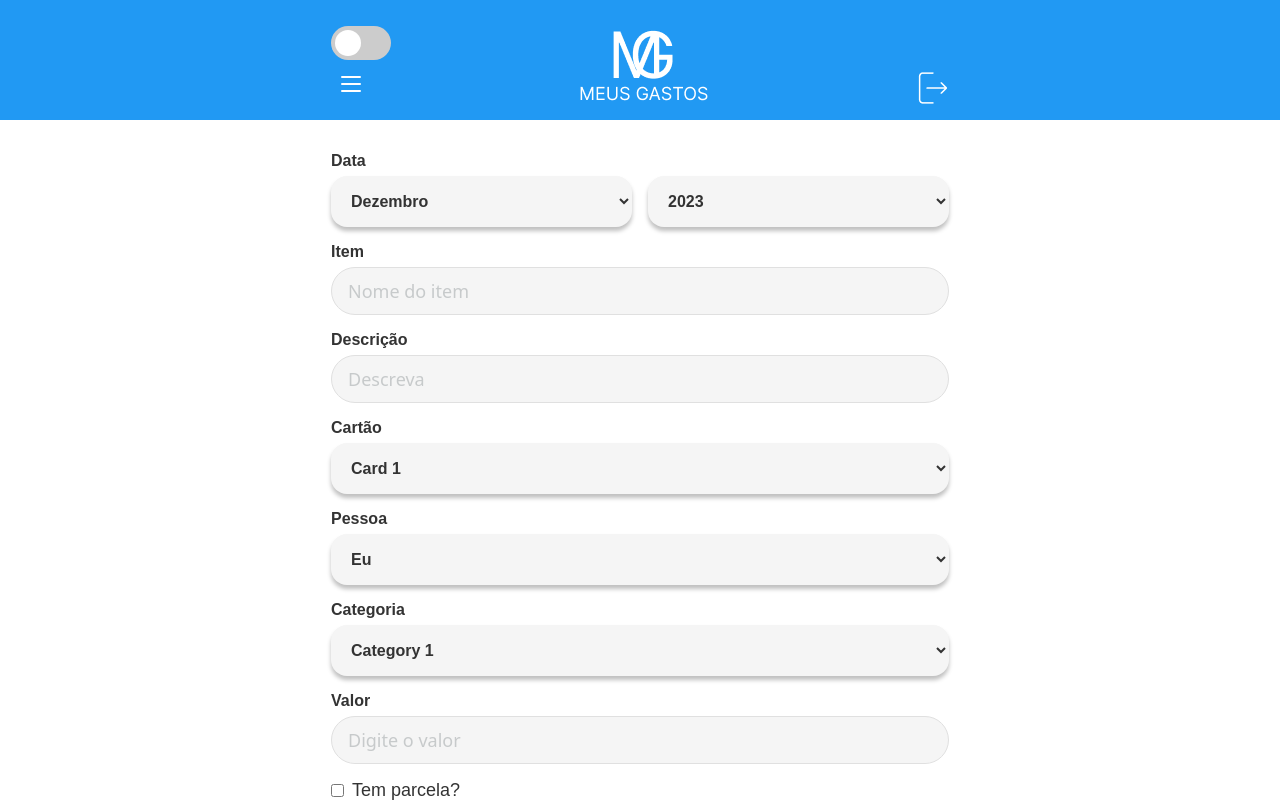
Scenario: New bill component with data › should show error paragraphs in inputs when not filled in
Click the checkbox with test id "checkbox-installment": (338, 790) [331,784,344,797]
(page scrolled)
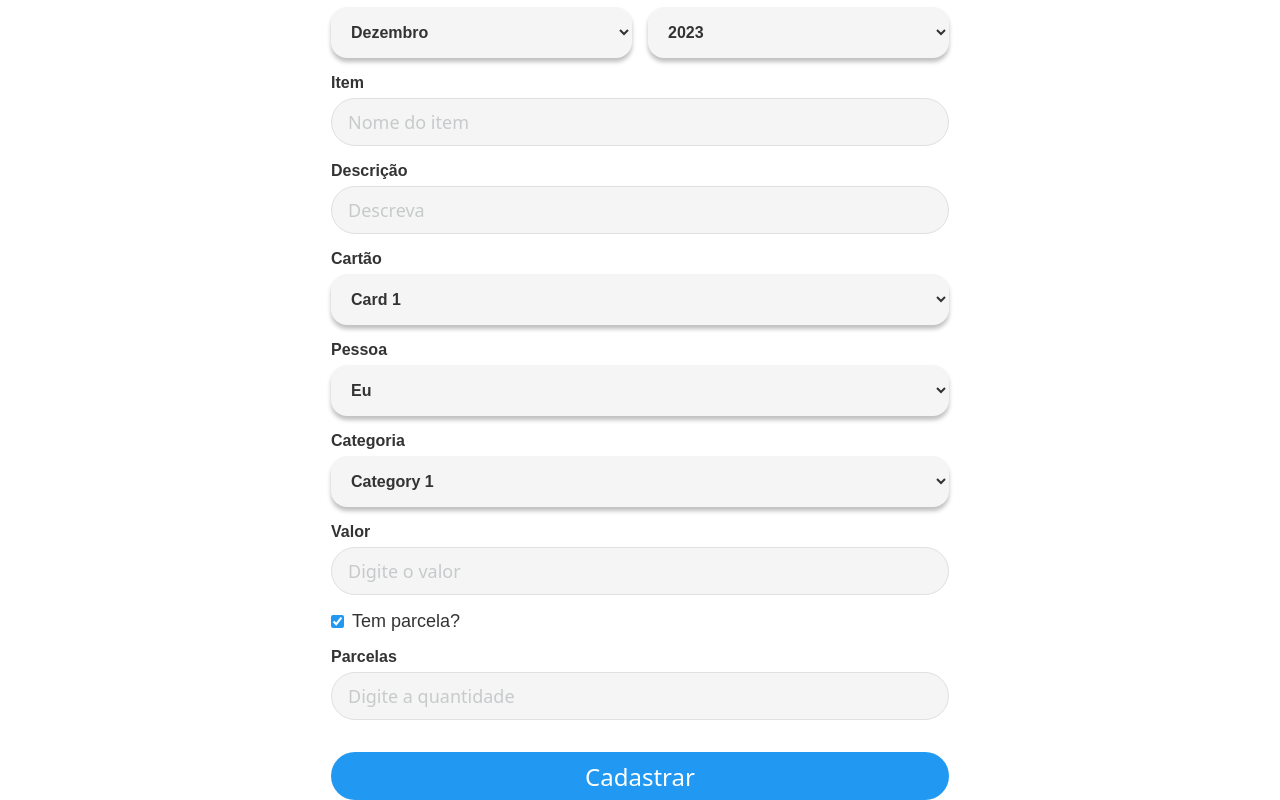
Click the button: (640, 776) [331,752,949,799]
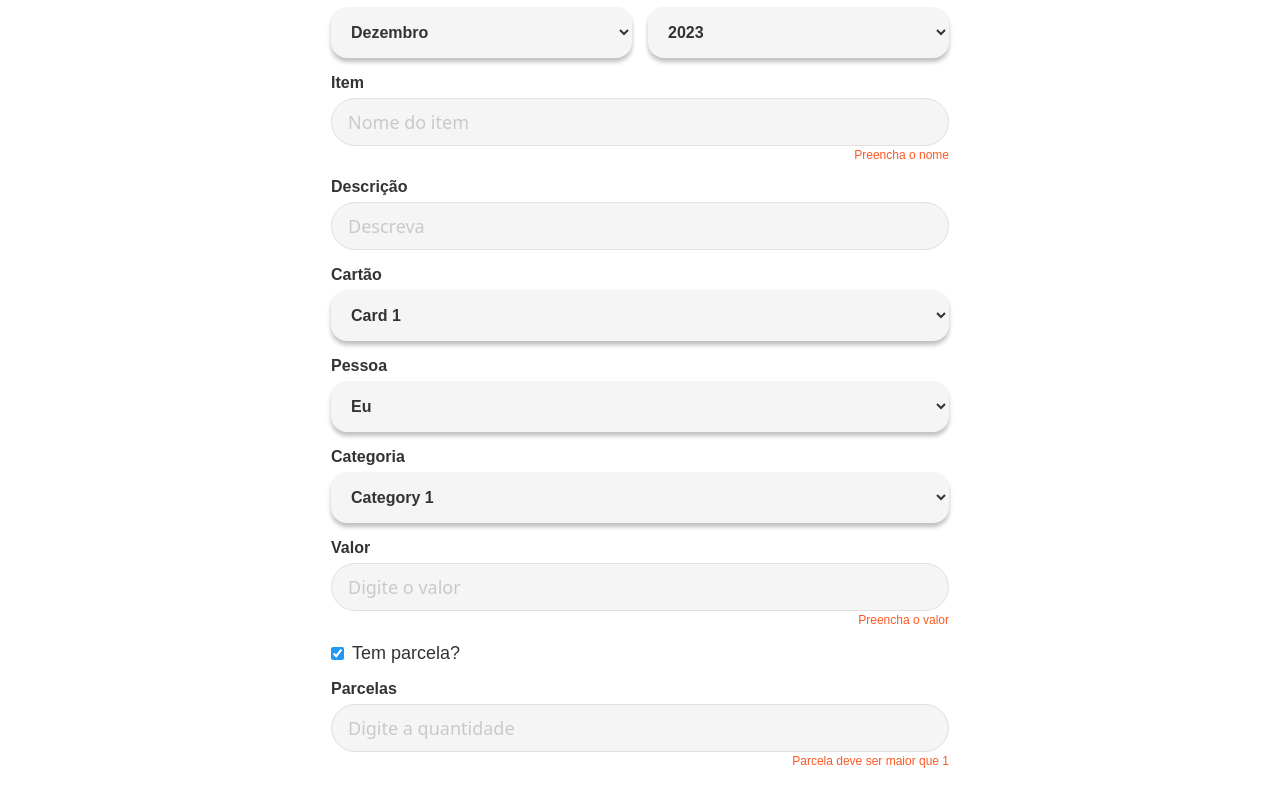
Expected: the text "Preencha o nome" is shown, [854,148,949,162]
Expected: the text "Preencha o valor" is shown, [858,613,949,627]
Expected: the text "Parcela deve ser maior que 1" is shown, [792,754,949,768]
